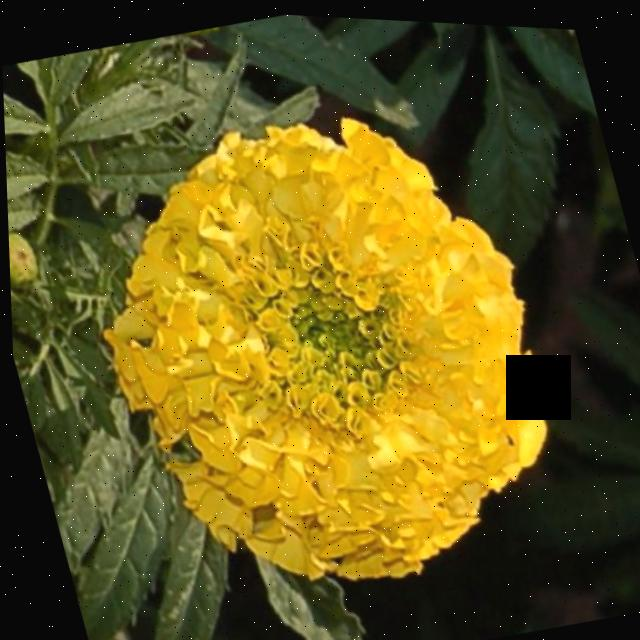marigold: (0, 0, 617, 640)
